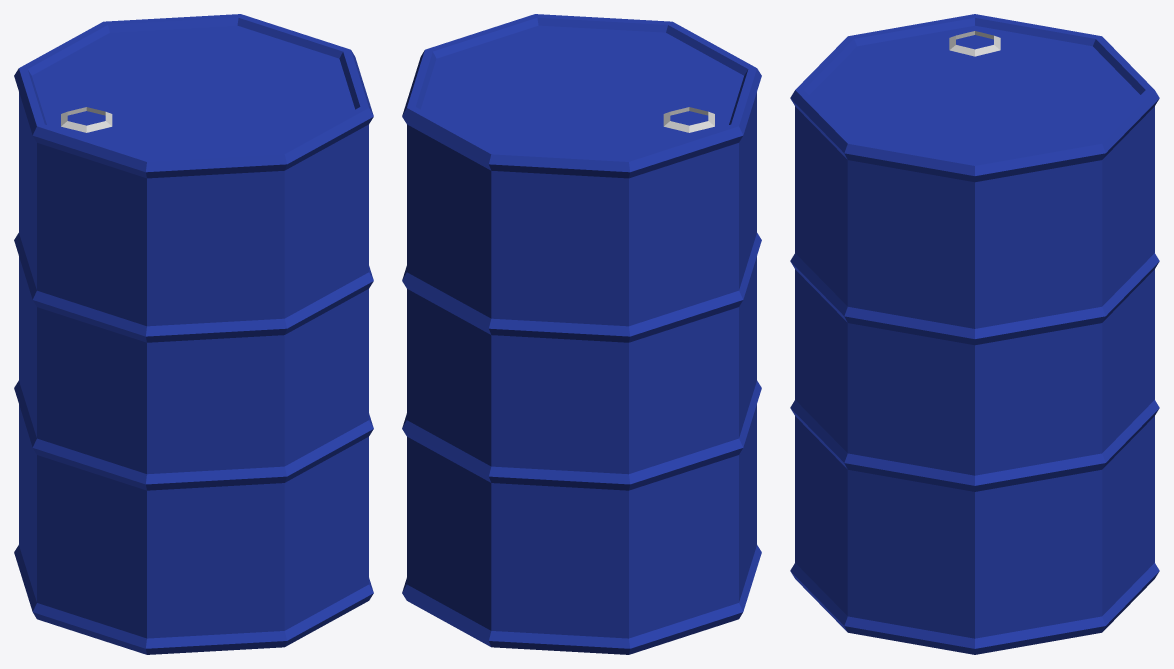
File: DrumBlue.fbx
3 views of the same model, side by side, from view 1: azimuth 30°, elevation 25°; view 2: azimuth 150°, elevation 25°; view 3: azimuth 270°, elevation 25° (orthographic).
Visible parts, largest first — view 1: Cylinder; view 2: Cylinder; view 3: Cylinder.
Part boxes in pixels (<box>): Cylinder: <box>14,14,373,654</box>; Cylinder: <box>402,14,761,654</box>; Cylinder: <box>790,14,1159,654</box>.
Bounding box in the file's own units: 0.822 × 1.2 × 0.822.
